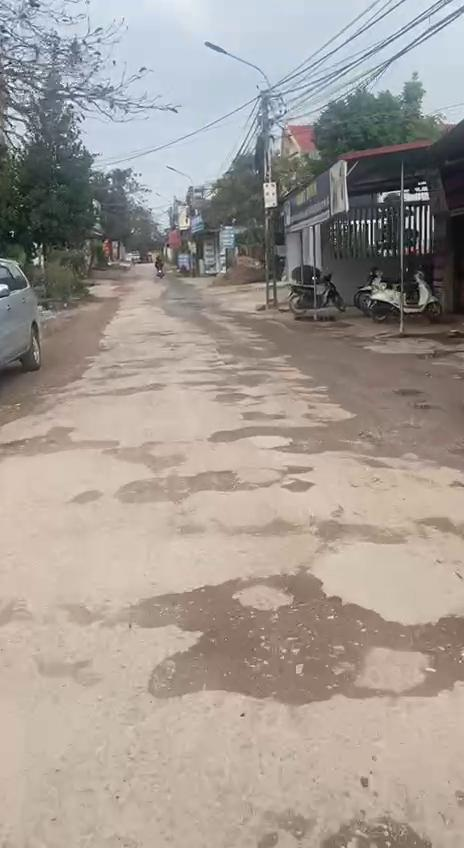pothole: (112, 563, 464, 706), (202, 406, 375, 458), (106, 467, 263, 504), (263, 510, 406, 548), (0, 418, 119, 456), (320, 814, 436, 848), (78, 380, 166, 402), (206, 387, 256, 405)
